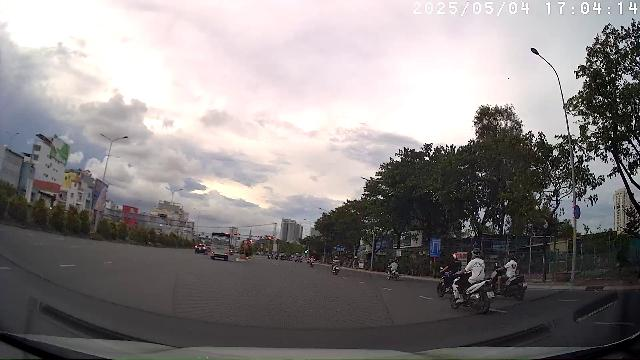131a-cam-do-xe: (573, 205, 581, 219)
